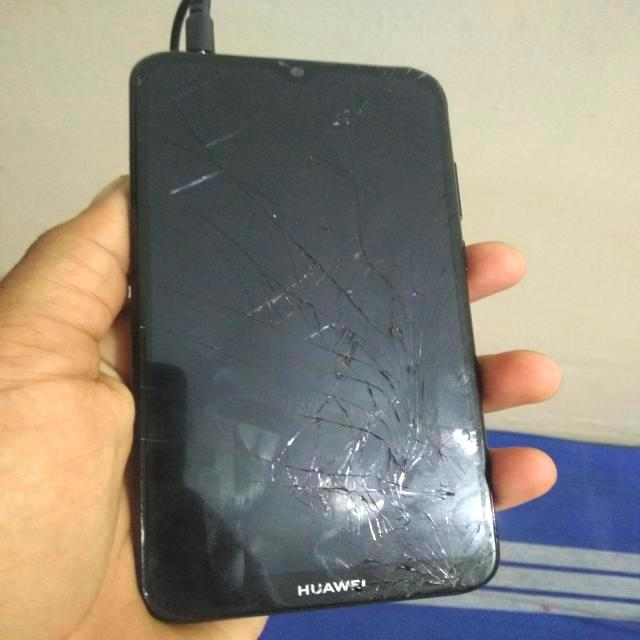phone: (123, 44, 500, 626)
